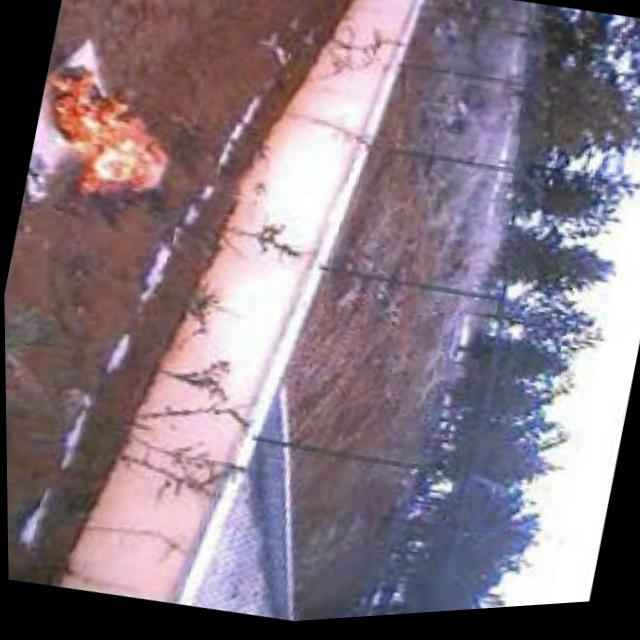Fire: (23, 51, 183, 209)
